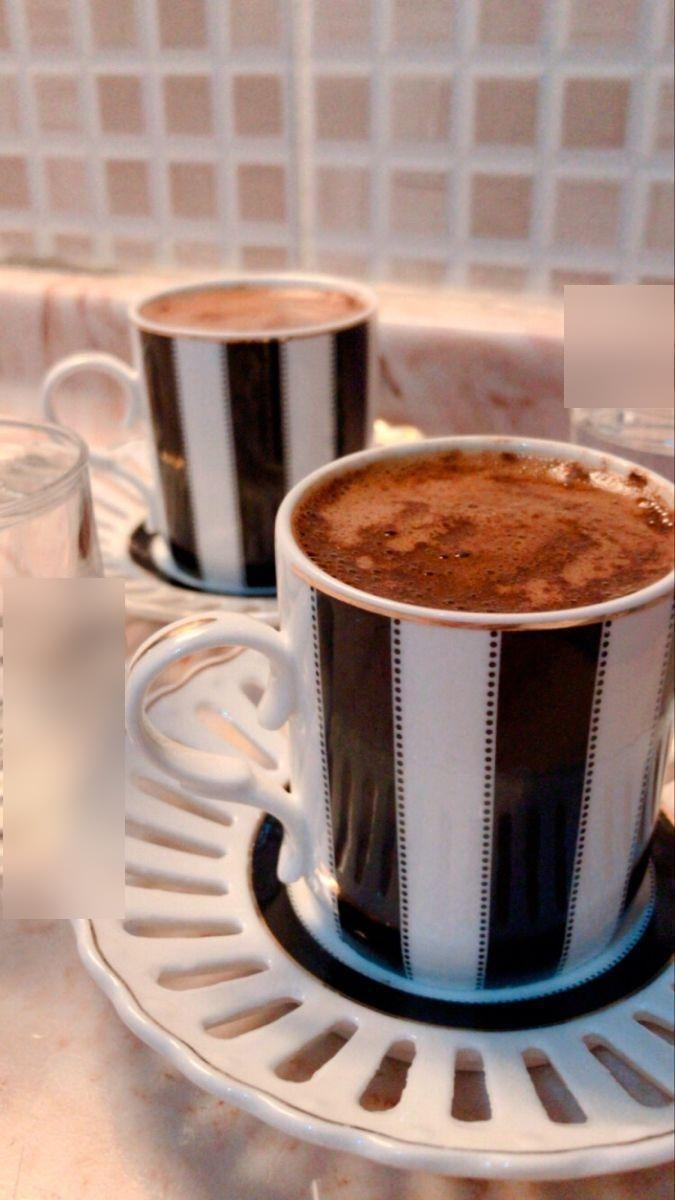cup-handle: (118, 429, 674, 1008), (40, 270, 381, 597)
